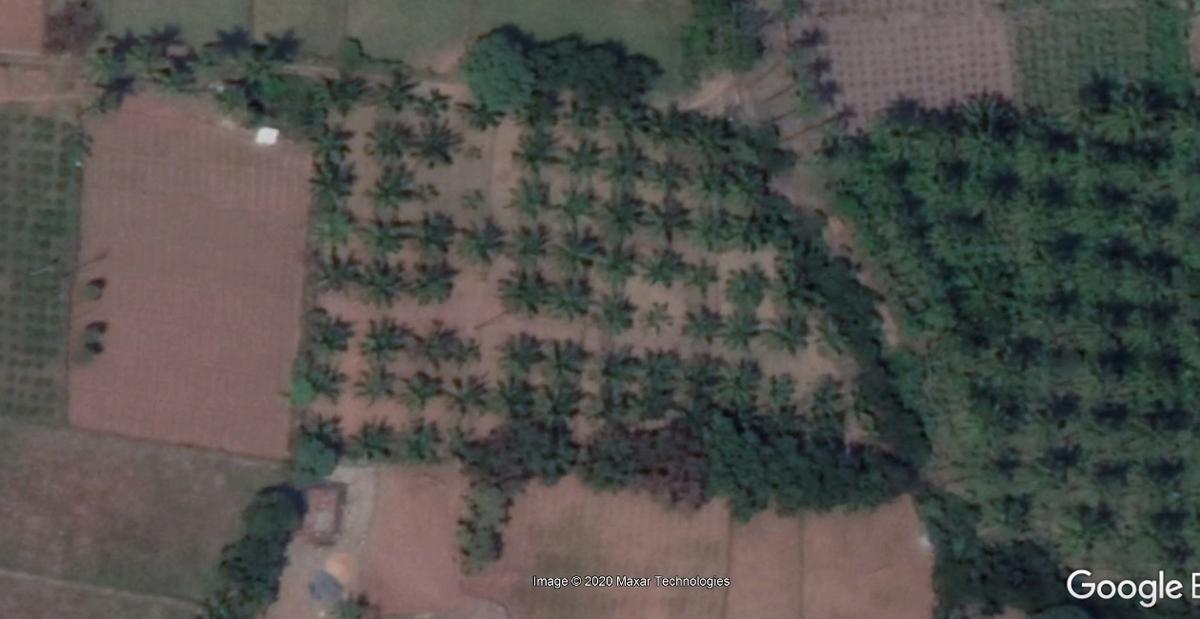coconut: (960, 92, 1020, 155), (1064, 499, 1121, 553), (1085, 334, 1143, 385), (718, 357, 768, 414), (1030, 221, 1081, 276), (1093, 227, 1141, 277), (972, 155, 1020, 204), (1037, 439, 1083, 489), (1142, 396, 1190, 443), (1142, 450, 1192, 495), (1029, 280, 1079, 325), (964, 436, 1015, 480), (496, 266, 549, 308), (459, 220, 502, 270), (1089, 286, 1135, 332), (498, 330, 543, 377), (300, 308, 347, 353), (304, 210, 354, 252), (1147, 337, 1192, 382), (360, 260, 404, 306), (303, 159, 347, 205), (1029, 119, 1076, 162), (307, 253, 354, 296), (1080, 175, 1130, 215), (1139, 289, 1185, 332), (511, 133, 559, 174), (363, 166, 411, 207), (352, 418, 396, 462), (1034, 386, 1080, 428), (1148, 247, 1193, 289), (702, 208, 749, 248), (649, 194, 692, 237), (1090, 396, 1134, 438), (410, 119, 455, 160), (641, 245, 688, 284), (365, 211, 403, 259), (651, 149, 695, 190), (597, 339, 637, 384), (413, 318, 452, 364), (360, 319, 402, 361), (558, 227, 601, 268), (550, 334, 590, 378), (361, 122, 407, 160), (1027, 171, 1074, 208), (601, 240, 643, 281), (448, 370, 486, 415), (517, 93, 564, 129), (314, 75, 356, 115), (1125, 79, 1165, 120), (605, 189, 645, 230), (459, 96, 501, 135), (1138, 196, 1181, 234), (1090, 448, 1135, 484), (403, 370, 443, 410), (1147, 499, 1190, 536), (706, 113, 740, 159), (1135, 134, 1174, 174), (377, 68, 413, 111), (608, 138, 643, 182), (86, 73, 130, 108), (499, 380, 536, 421), (411, 259, 454, 294), (683, 351, 717, 395), (509, 179, 553, 213), (1072, 75, 1112, 112), (564, 137, 603, 174), (354, 367, 394, 403), (812, 373, 846, 415), (1083, 127, 1121, 164), (558, 182, 596, 219), (547, 378, 584, 416), (768, 366, 801, 408), (238, 46, 280, 79), (414, 211, 450, 248), (306, 122, 344, 157), (557, 274, 591, 311), (517, 222, 551, 259), (411, 421, 444, 459), (701, 166, 740, 198), (642, 345, 675, 382), (690, 253, 728, 285), (417, 85, 451, 117), (94, 34, 130, 62), (137, 35, 169, 61), (568, 105, 599, 127)
